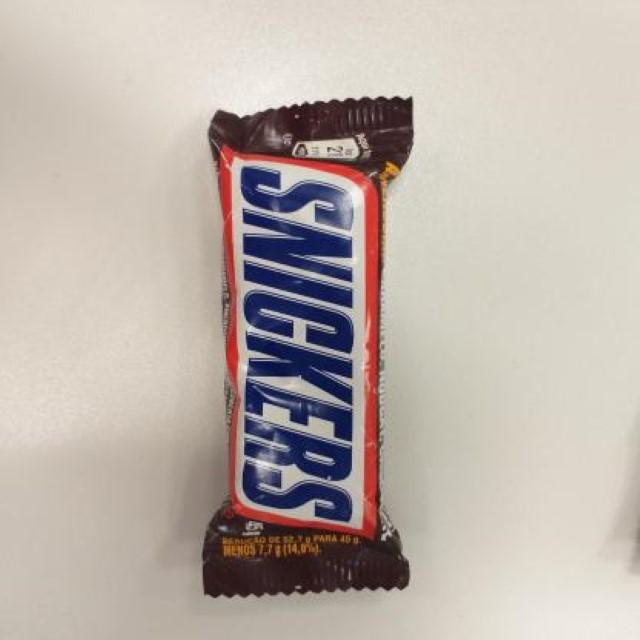snickers_chocolate: (205, 105, 395, 603)
